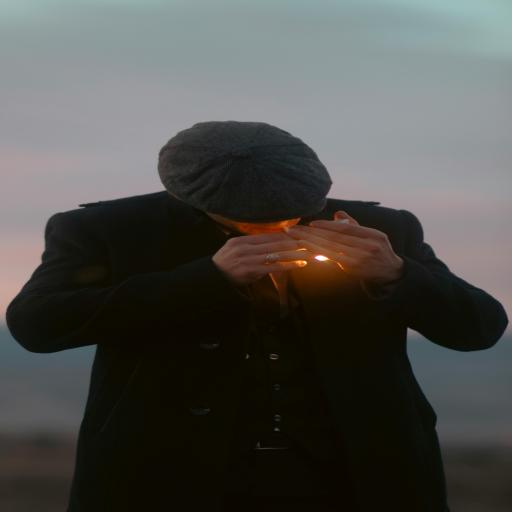lighter: (234, 226, 370, 282)
